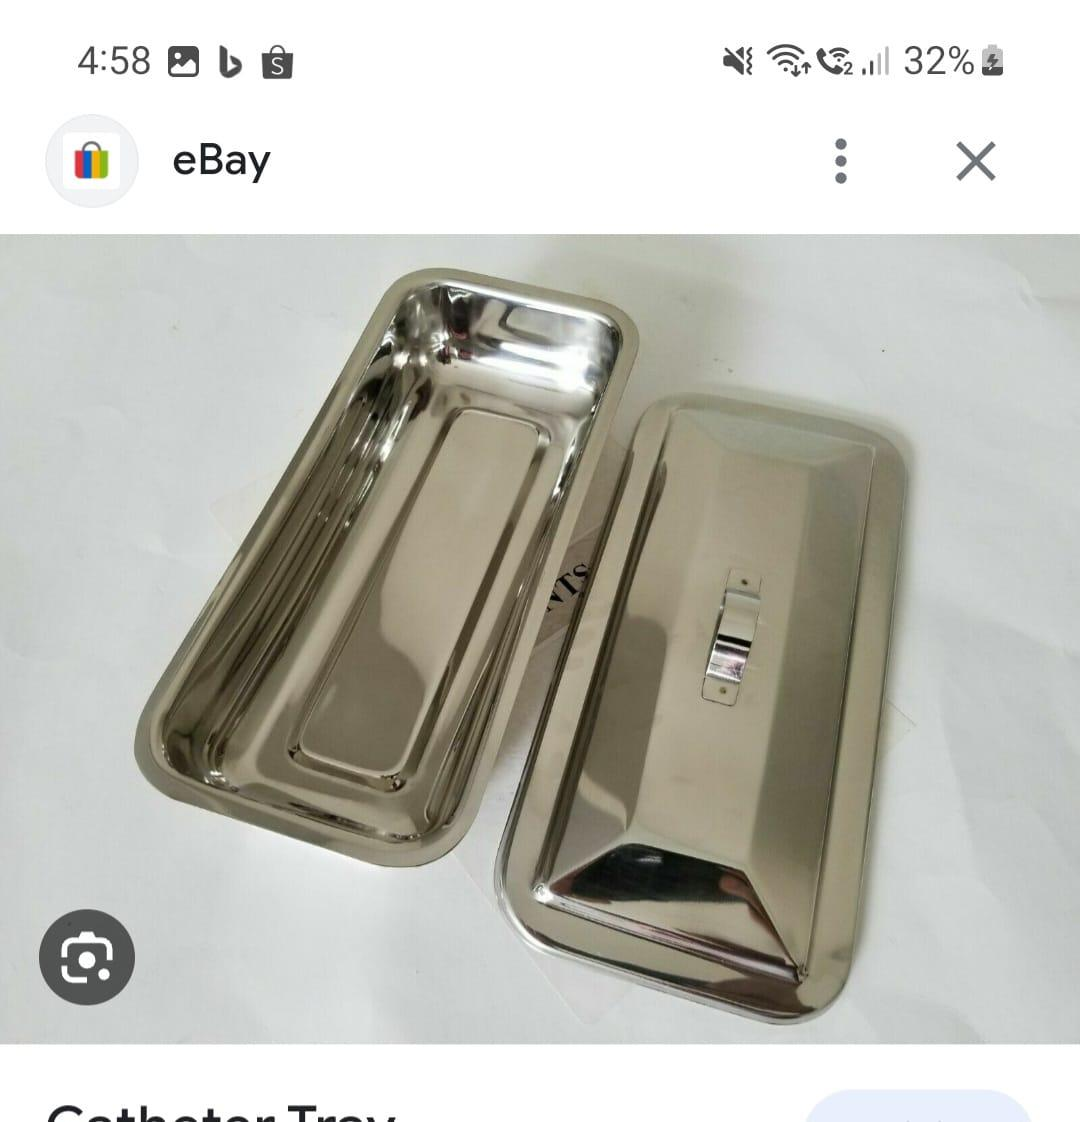Catheter Tray: (133, 253, 635, 884)
